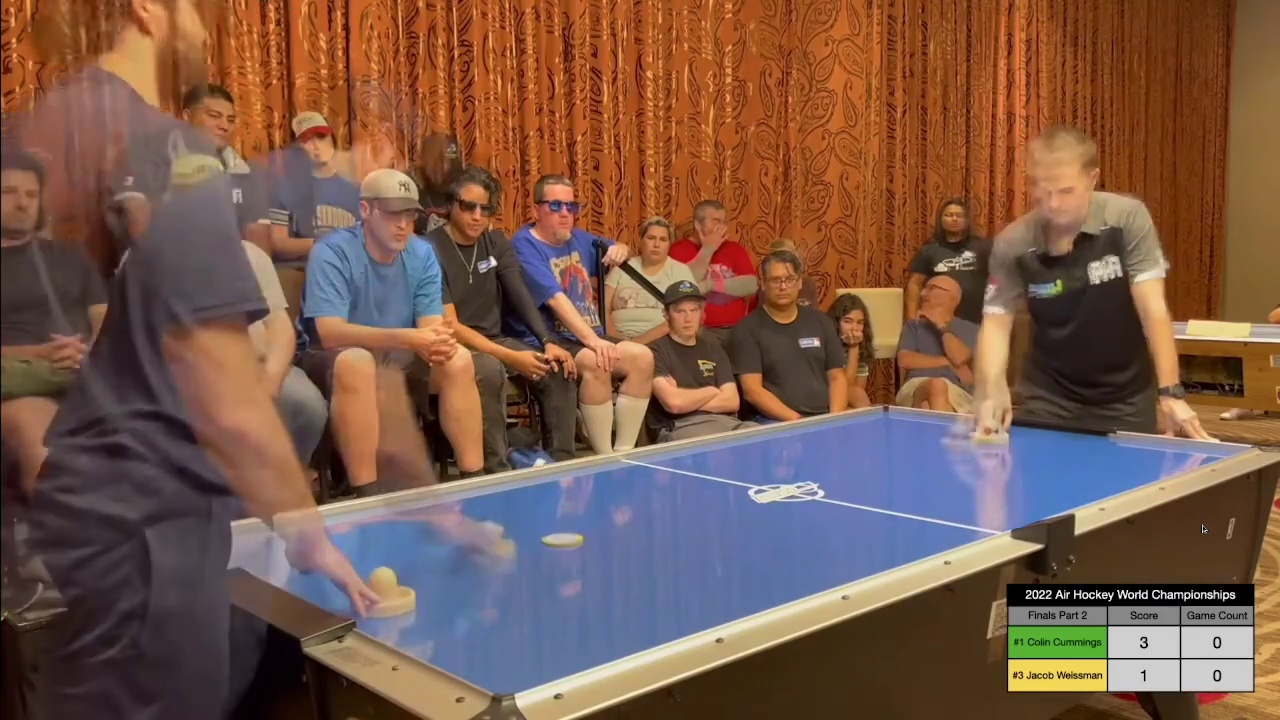player: (357, 566, 421, 618), (974, 416, 1009, 450)
puck: (542, 531, 586, 548)
table: (151, 401, 1280, 695)
